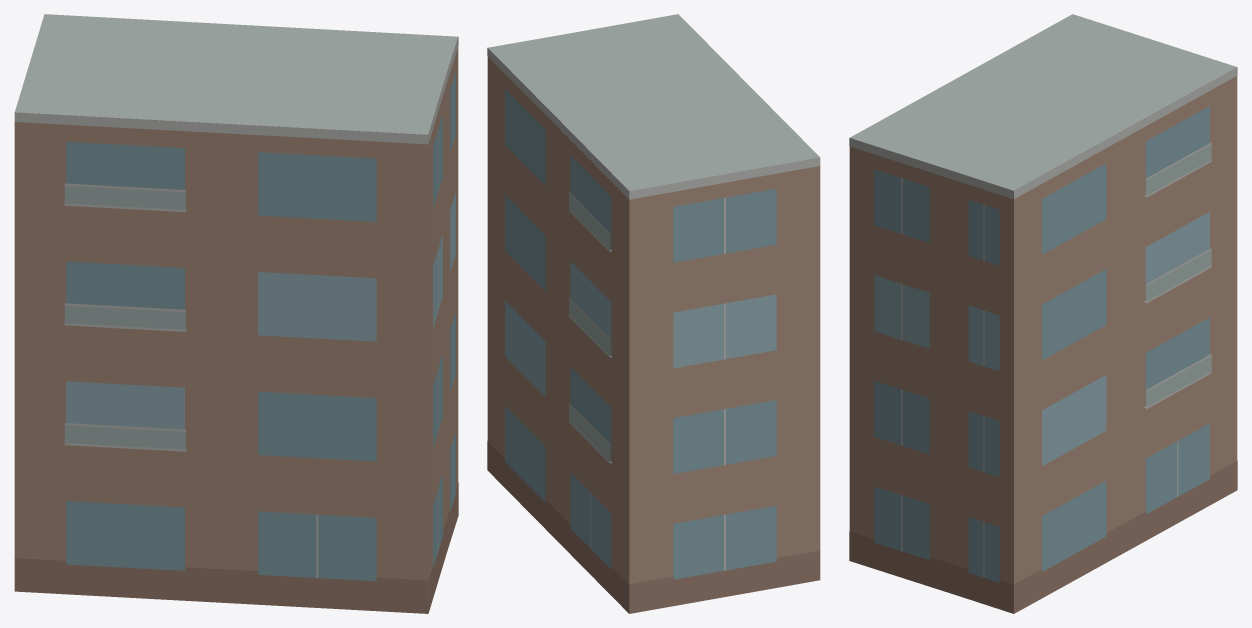
Rendered from residential-8aad5c74-9ed9-41de-a0e1-e5f55466110c.glb.
3 renders of one model, left to right at view 1: azimuth 30°, elevation 25°; view 2: azimuth 150°, elevation 25°; view 3: azimuth 270°, elevation 25°, orthographic. The views are drawn at different scales.
Parts seen in each view (by area): view 1: residential-8aad5c74-9ed9-41de-a0e1-e5f55466110c.tmp; view 2: residential-8aad5c74-9ed9-41de-a0e1-e5f55466110c.tmp; view 3: residential-8aad5c74-9ed9-41de-a0e1-e5f55466110c.tmp.
Part boxes in pixels (x1,y1,x2,y2): residential-8aad5c74-9ed9-41de-a0e1-e5f55466110c.tmp: [14, 14, 458, 613]; residential-8aad5c74-9ed9-41de-a0e1-e5f55466110c.tmp: [487, 14, 820, 613]; residential-8aad5c74-9ed9-41de-a0e1-e5f55466110c.tmp: [849, 14, 1237, 613].
Bounding box in the file's own units: 10.95 × 12.2 × 10.15.
